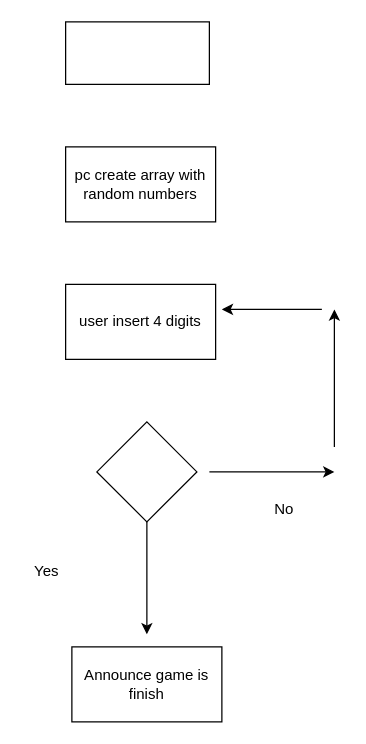
Some shapes in this 366 by 744 pixel diagram are drawn without their labels. Each missing label, with the centre of its shape:
"is game finish (4 bulls)" belongs at (x=146, y=471).
"start game" belongs at (x=136, y=52).
